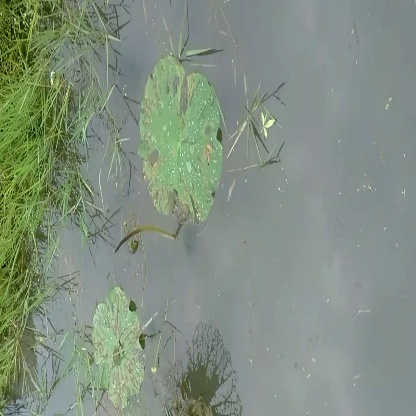leaf: (140, 55, 227, 228)
